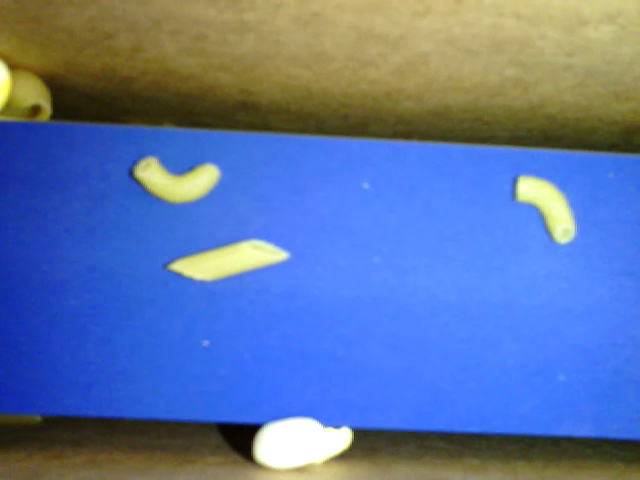elbow: (511, 170, 579, 245), (123, 151, 225, 201)
penne: (160, 237, 290, 283)
shell: (2, 66, 52, 122)
